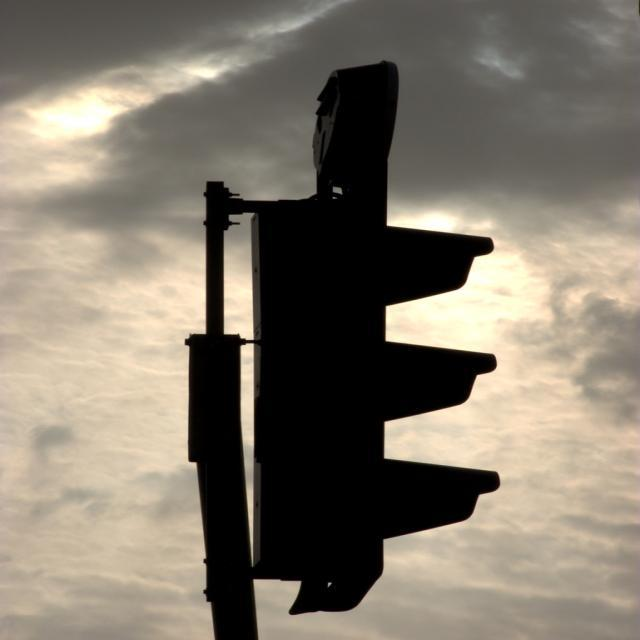off traffic light: (244, 58, 500, 617)
